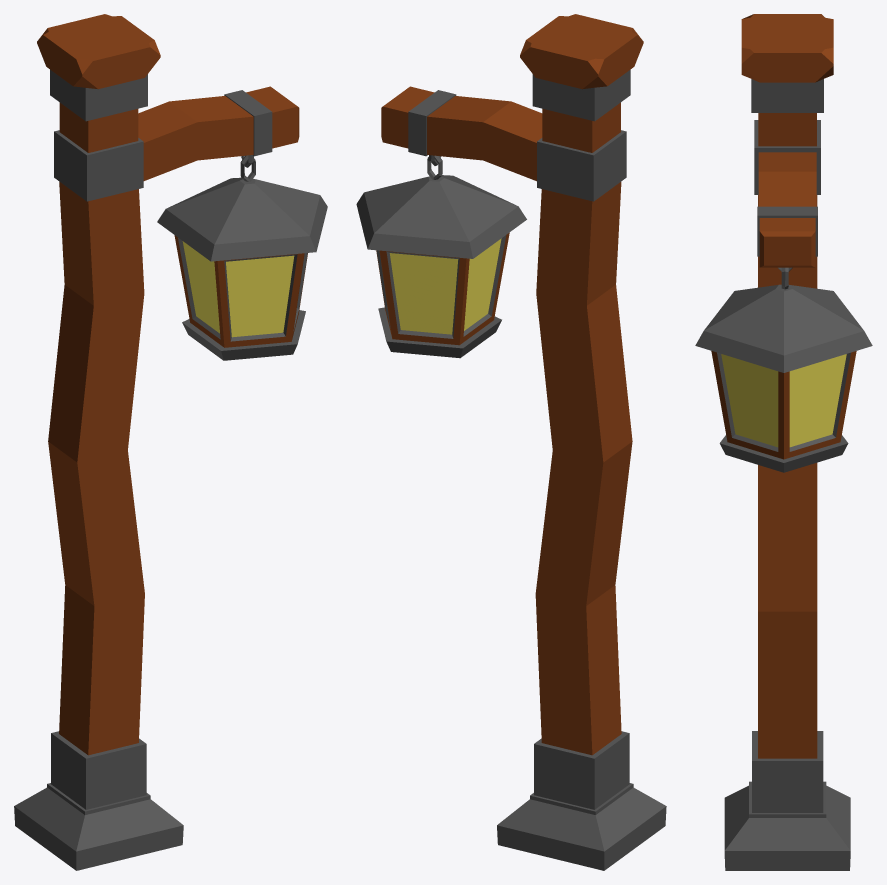
The model's file is Lamppost.fbx.
The picture shows the model from 3 angles, left to right: view 1: azimuth 30°, elevation 25°; view 2: azimuth 150°, elevation 25°; view 3: azimuth 270°, elevation 25°; orthographic projection.
Parts seen in each view (by area): view 1: LampPost; view 2: LampPost; view 3: LampPost.
Part boxes in pixels (x1,y1,x2,y2): LampPost: (14,14,327,870); LampPost: (356,14,666,870); LampPost: (695,14,872,870).
Bounding box in the file's own units: 3.39 × 9.2 × 1.82.
